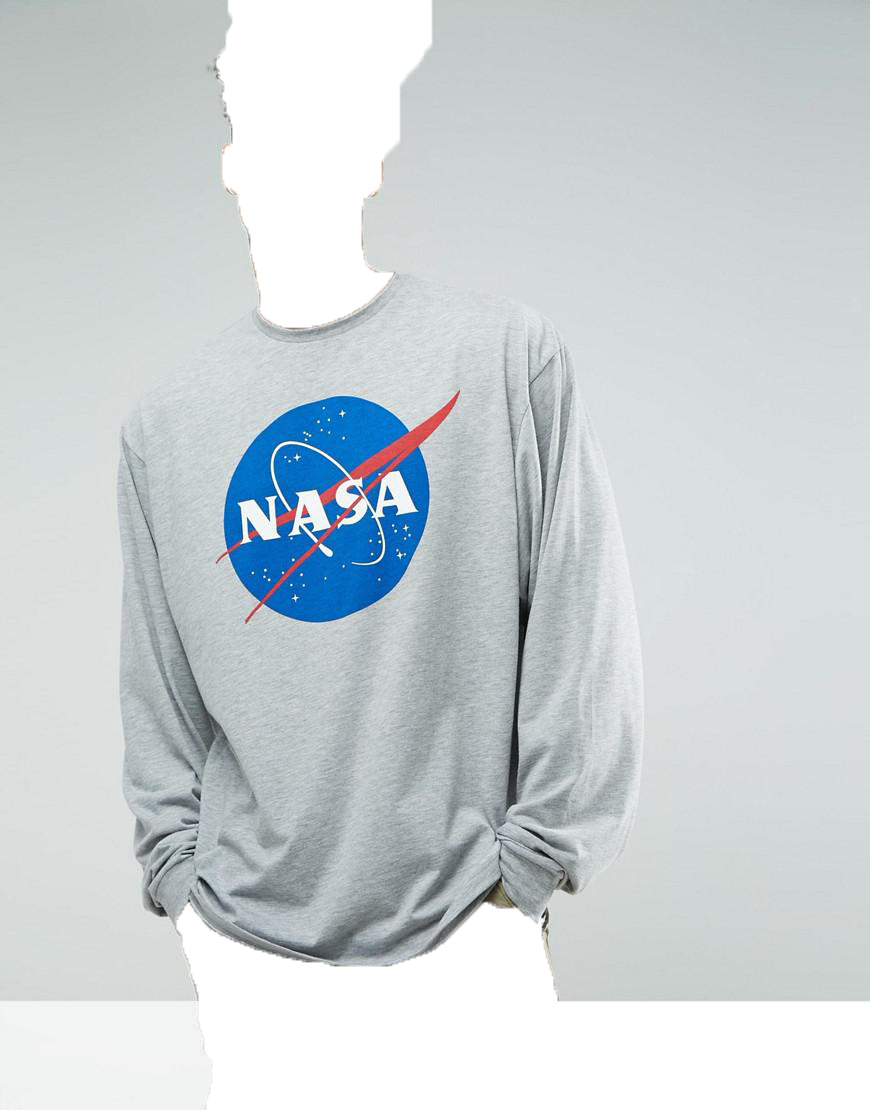teeshirt: (91, 269, 647, 951)
